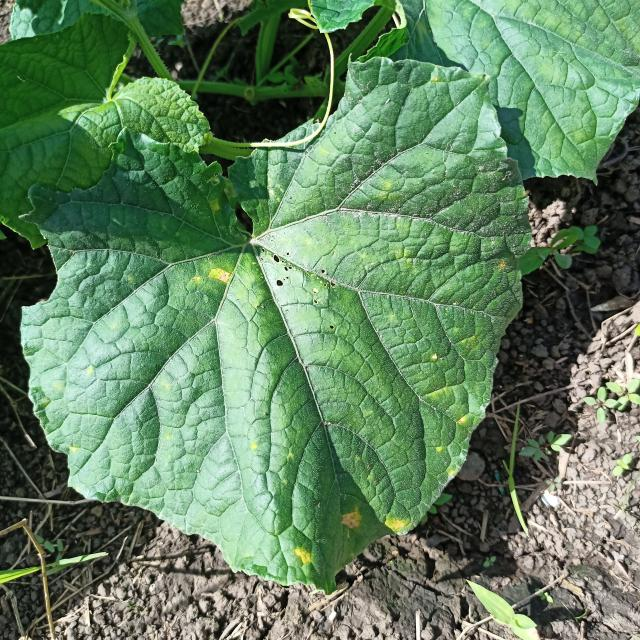disease_cucumber: (340, 507, 362, 535), (208, 266, 231, 288), (383, 515, 408, 534), (294, 546, 314, 568), (85, 364, 92, 375)
